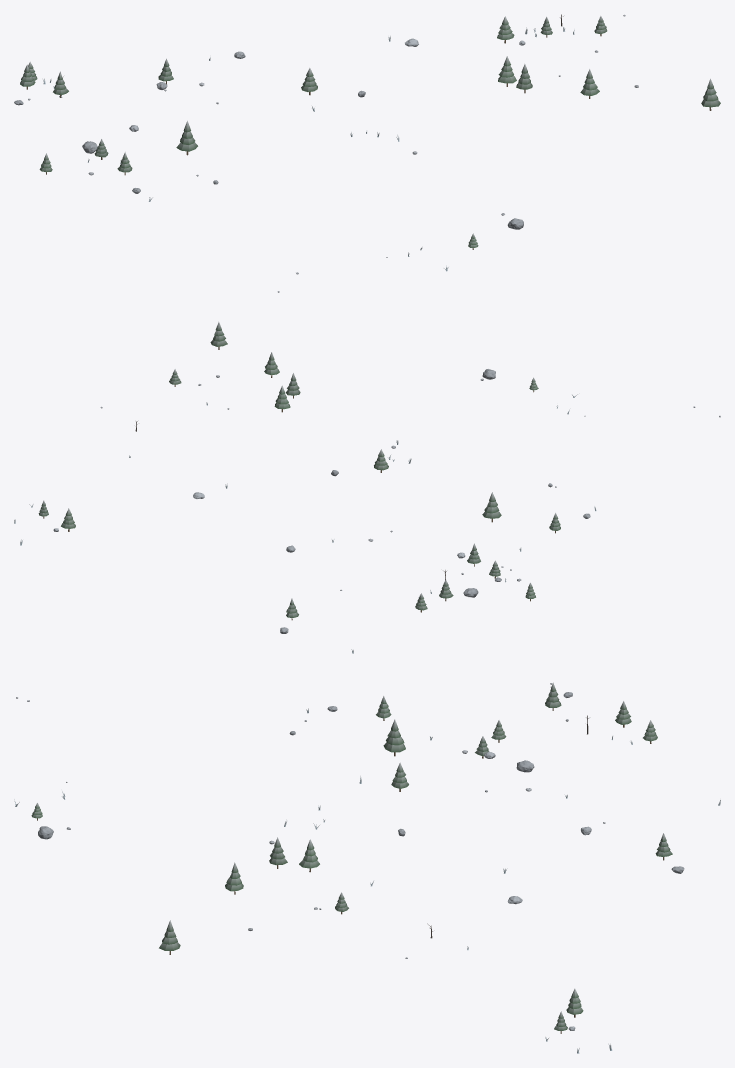
File: frost_land_scatter_c20_09.glb
The picture shows the model from 3 angles, top to bottom: view 1: azimuth 30°, elevation 25°; view 2: azimuth 150°, elevation 25°; view 3: azimuth 270°, elevation 25°; orthographic projection. The views are drawn at different scales.
Parts seen in each view (by area): view 1: frost_land_scatter_c20_09; view 2: frost_land_scatter_c20_09; view 3: frost_land_scatter_c20_09.
Part boxes in pixels (x1,y1,x2,y2): frost_land_scatter_c20_09: (14, 14, 720, 292); frost_land_scatter_c20_09: (14, 322, 720, 653); frost_land_scatter_c20_09: (14, 682, 720, 1053).
Size of the model in its own units: 253 by 52.89 by 257.
